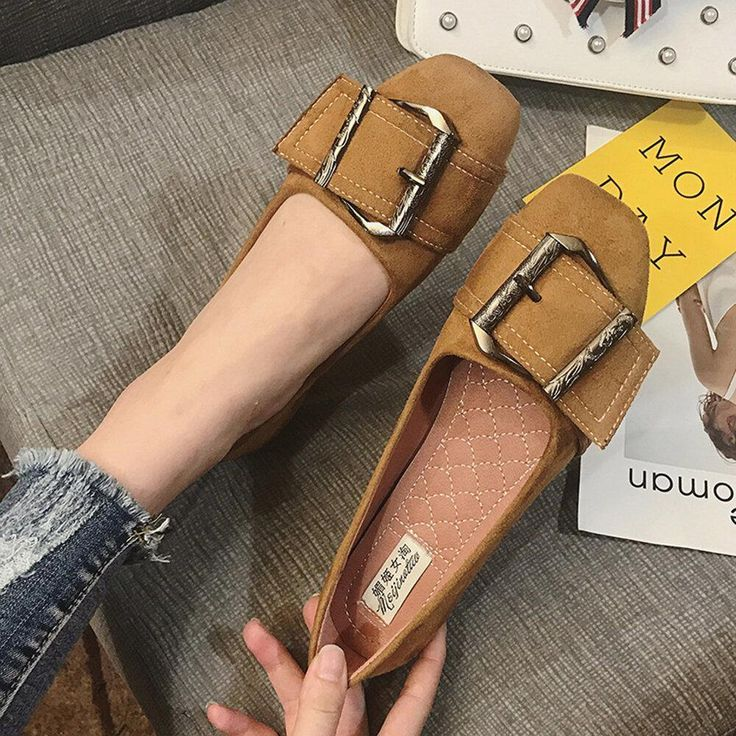gamuza: (225, 54, 659, 681)
